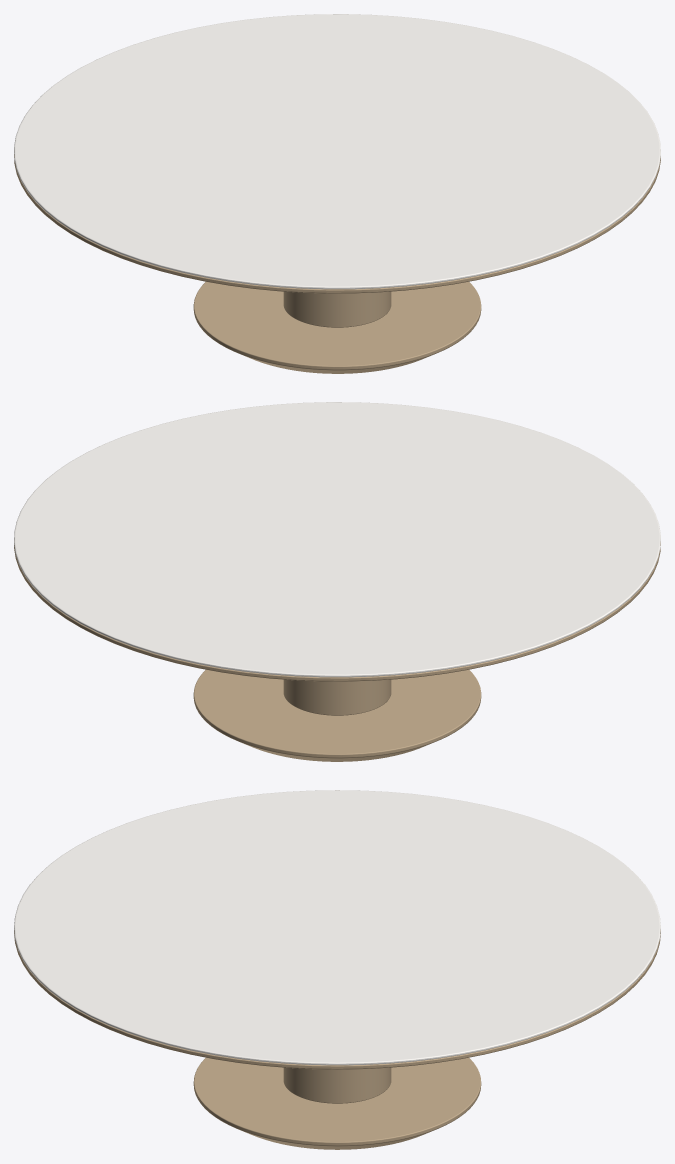
File: orbit_d90h26_hoje.glb
3 renders of one model, top to bottom at view 1: azimuth 30°, elevation 25°; view 2: azimuth 150°, elevation 25°; view 3: azimuth 270°, elevation 25°, orthographic.
Visible parts, largest first — view 1: Top Orbit Coffee Table 021, Base Orbit Coffee Table 021, Base Element Orbit Coffee Table 024, Undertop Orbit Coffee Table 021; view 2: Top Orbit Coffee Table 021, Base Orbit Coffee Table 021, Base Element Orbit Coffee Table 024, Undertop Orbit Coffee Table 021; view 3: Top Orbit Coffee Table 021, Base Orbit Coffee Table 021, Base Element Orbit Coffee Table 024, Undertop Orbit Coffee Table 021.
Part boxes in pixels (x1=…): Top Orbit Coffee Table 021: x1=14, y1=14, x2=660, y2=289; Base Orbit Coffee Table 021: x1=193, y1=281, x2=481, y2=373; Base Element Orbit Coffee Table 024: x1=283, y1=291, x2=391, y2=327; Undertop Orbit Coffee Table 021: x1=14, y1=154, x2=660, y2=293; Top Orbit Coffee Table 021: x1=14, y1=402, x2=660, y2=677; Base Orbit Coffee Table 021: x1=193, y1=669, x2=481, y2=761; Base Element Orbit Coffee Table 024: x1=283, y1=679, x2=391, y2=715; Undertop Orbit Coffee Table 021: x1=14, y1=542, x2=660, y2=681; Top Orbit Coffee Table 021: x1=14, y1=790, x2=660, y2=1065; Base Orbit Coffee Table 021: x1=193, y1=1057, x2=481, y2=1149; Base Element Orbit Coffee Table 024: x1=283, y1=1067, x2=391, y2=1103; Undertop Orbit Coffee Table 021: x1=14, y1=930, x2=660, y2=1069.
Size of the model in its own units: 0.9 by 0.264 by 0.9.
